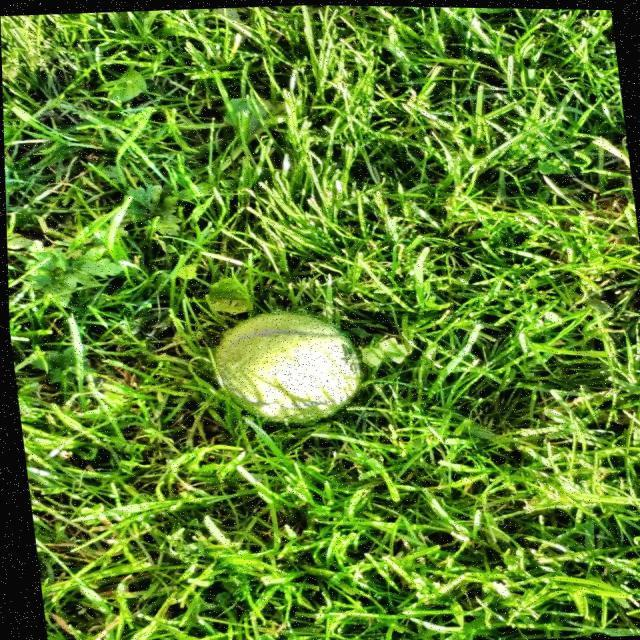tennis-ball: (202, 304, 370, 432)
